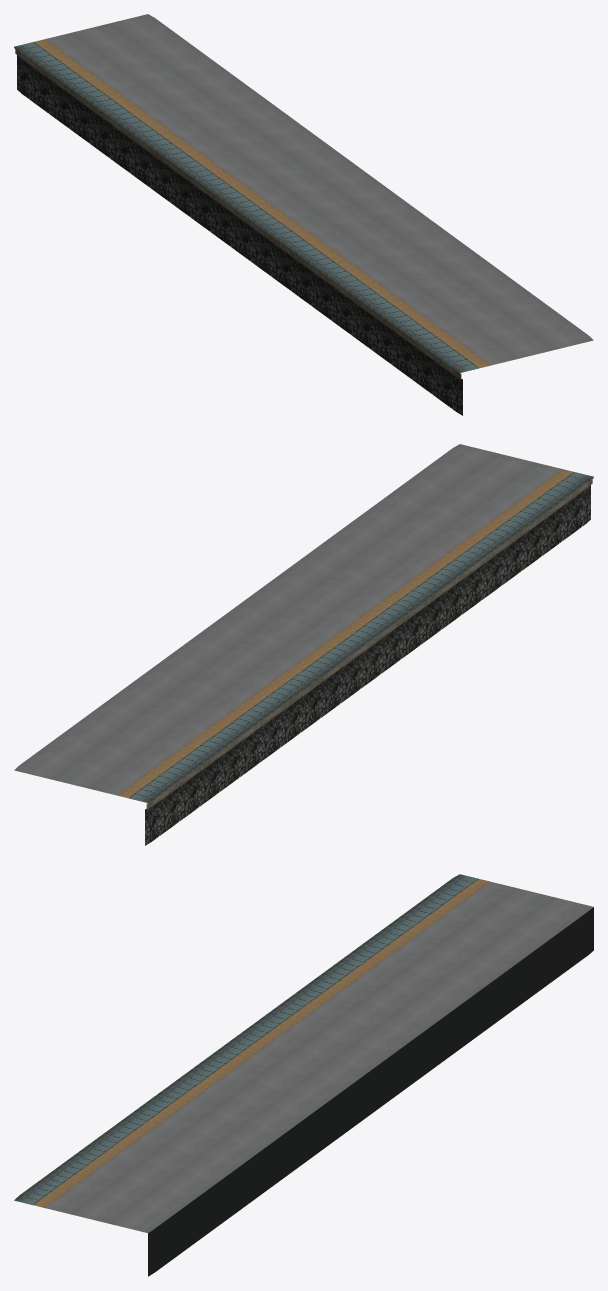
The model's file is AMB_MEI_HOME2.glb.
The picture shows the model from 3 angles, top to bottom: view 1: azimuth 30°, elevation 25°; view 2: azimuth 150°, elevation 25°; view 3: azimuth 330°, elevation 25°; orthographic projection.
Parts seen in each view (by area): view 1: Mesh1; view 2: Mesh1; view 3: Mesh1.
Boxes of the visible parts, left/top/right/bottom form: Mesh1: left=14, top=14, right=593, bottom=415; Mesh1: left=14, top=444, right=593, bottom=845; Mesh1: left=14, top=874, right=593, bottom=1276.
Bounding box in the file's own units: 18.06 × 5.59 × 103.
7 materials, 7 textured.
